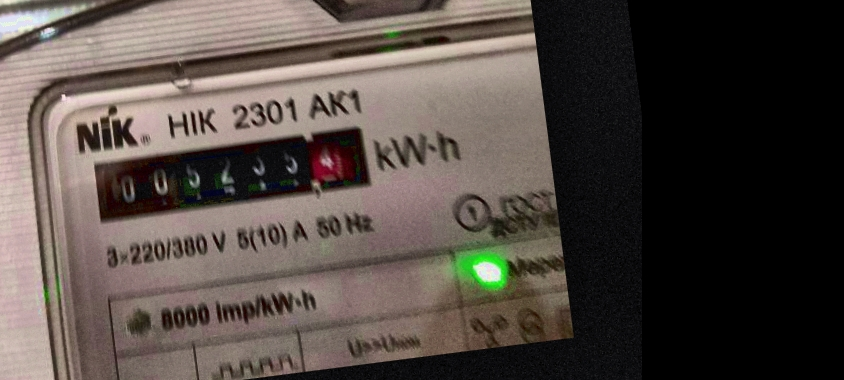0: (148, 163, 172, 198), (117, 171, 138, 204)
2: (213, 151, 238, 188)
3: (245, 145, 272, 181)
4: (313, 136, 339, 175)
5: (278, 140, 304, 178), (181, 156, 204, 192)
screen: (74, 111, 385, 236)
